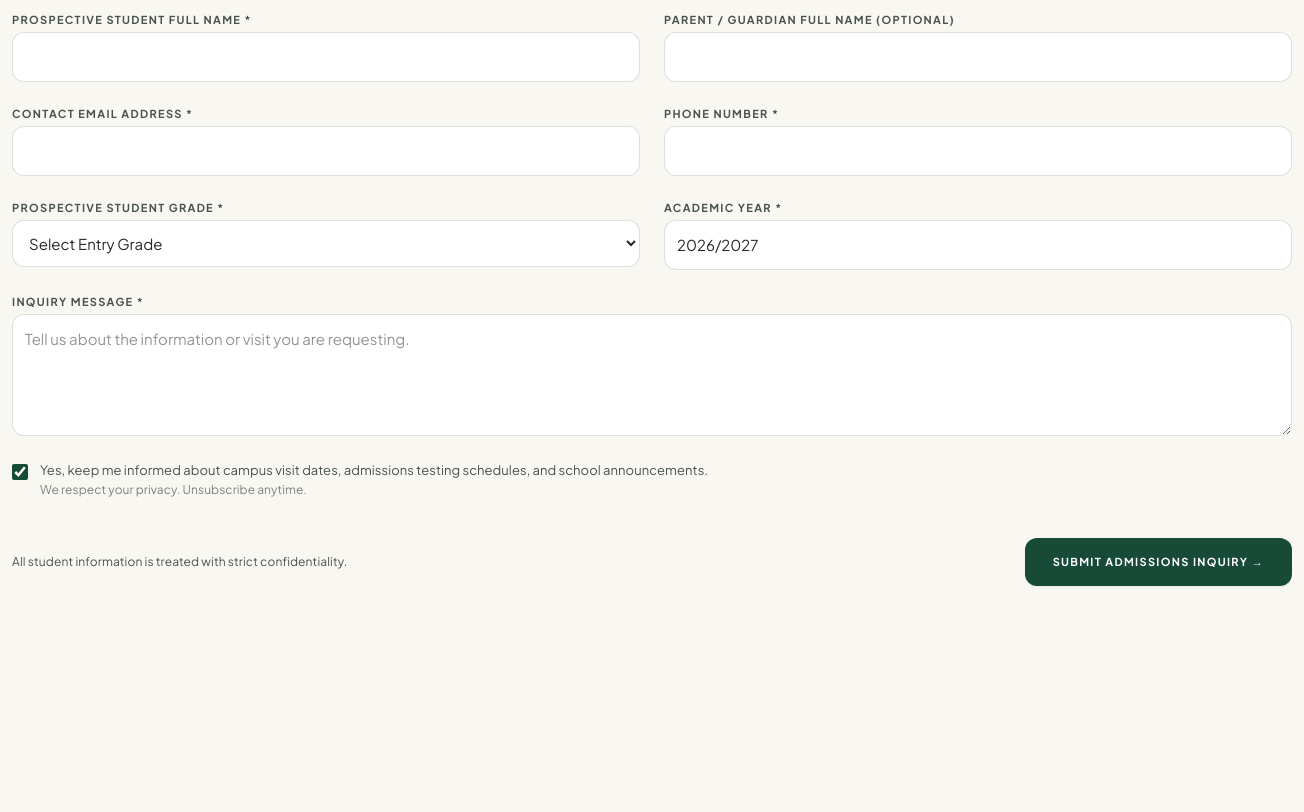
it: AdmissionInquiryForm › submits admissions then newsletter and reports both outcomes
Type "Amina Bekele" into the field labelled "Prospective Student Full Name *".
click(326, 57); type("Amina Bekele")  # box [12,32,640,82]
Type "Sara Bekele" into the field labelled "Parent / Guardian Full Name (optional)".
click(978, 57); type("Sara Bekele")  # box [664,32,1292,82]
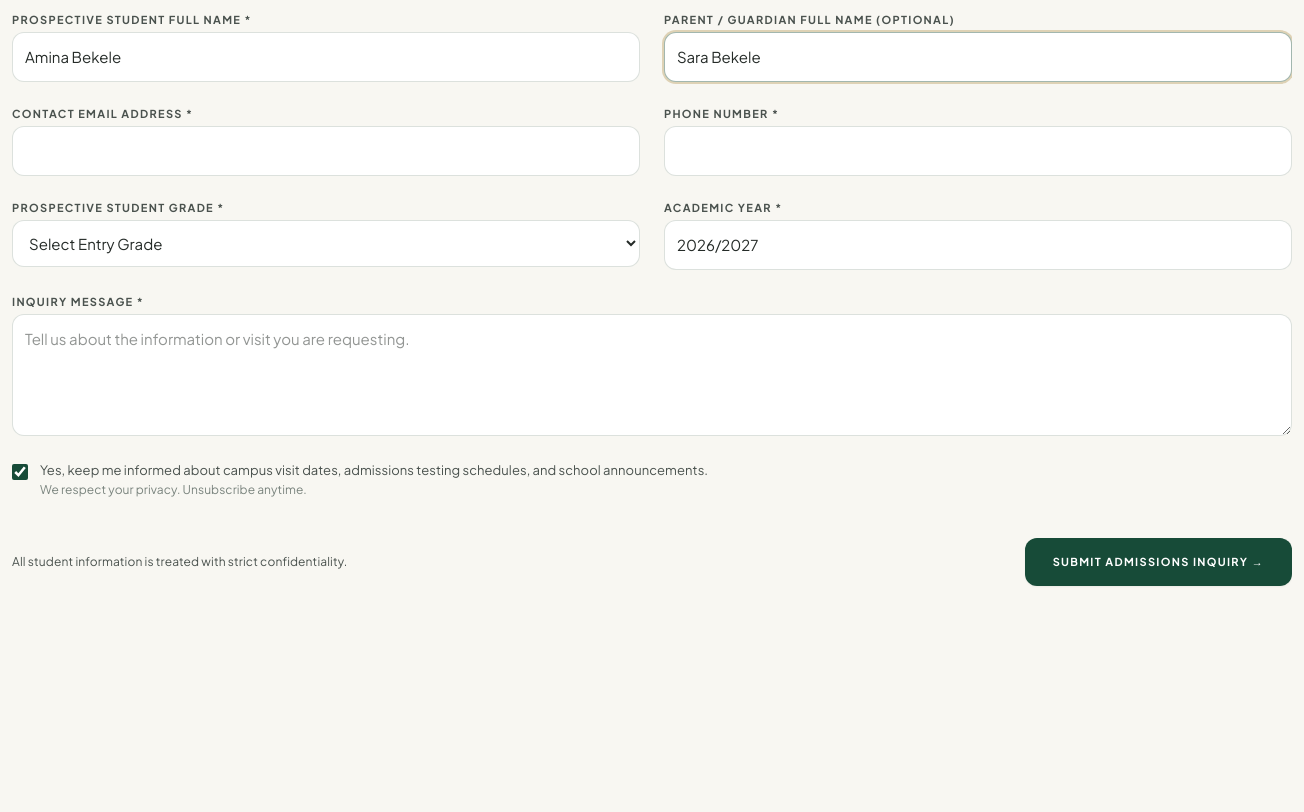
Type "amina@example.com" into the field labelled "Contact Email Address *".
click(326, 151); type("amina@example.com")  # box [12,126,640,176]
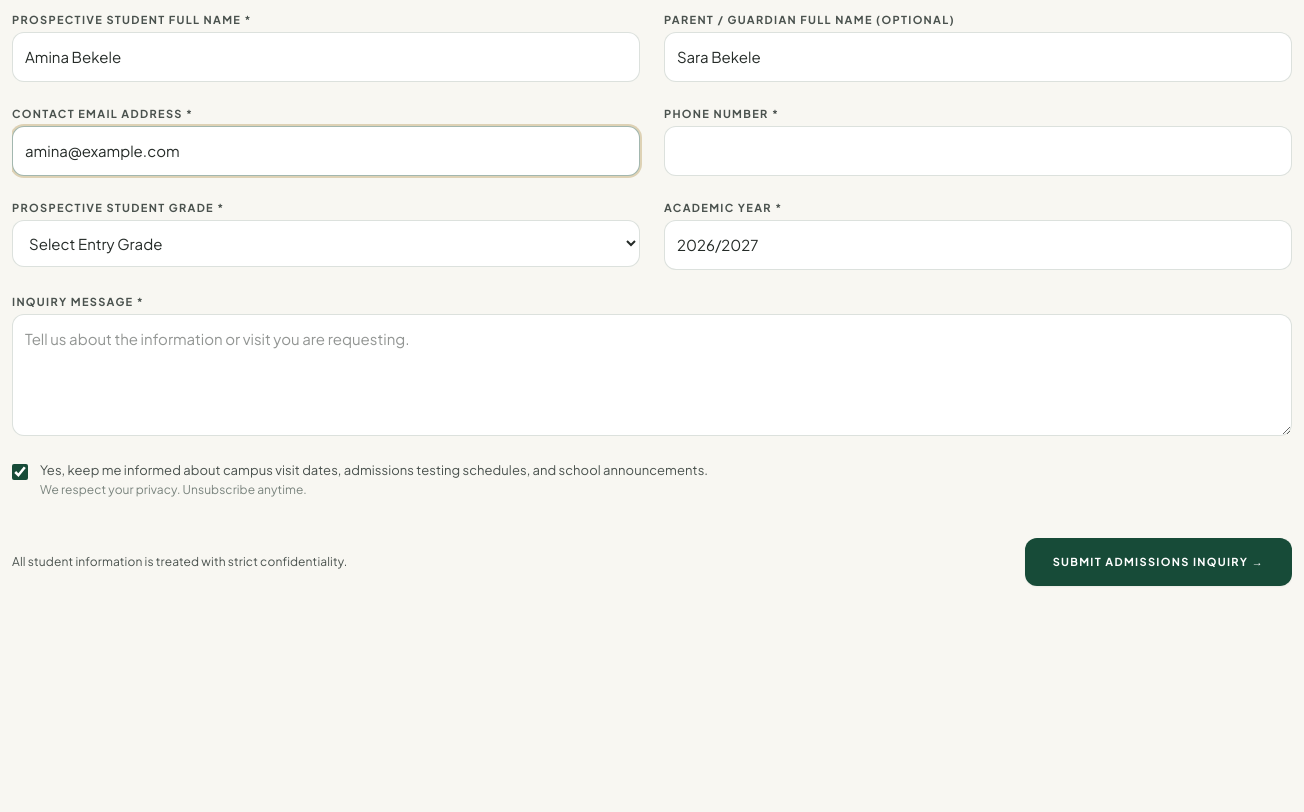
Type "+251911234567" into the field labelled "Phone Number *".
click(978, 151); type("+251911234567")  # box [664,126,1292,176]
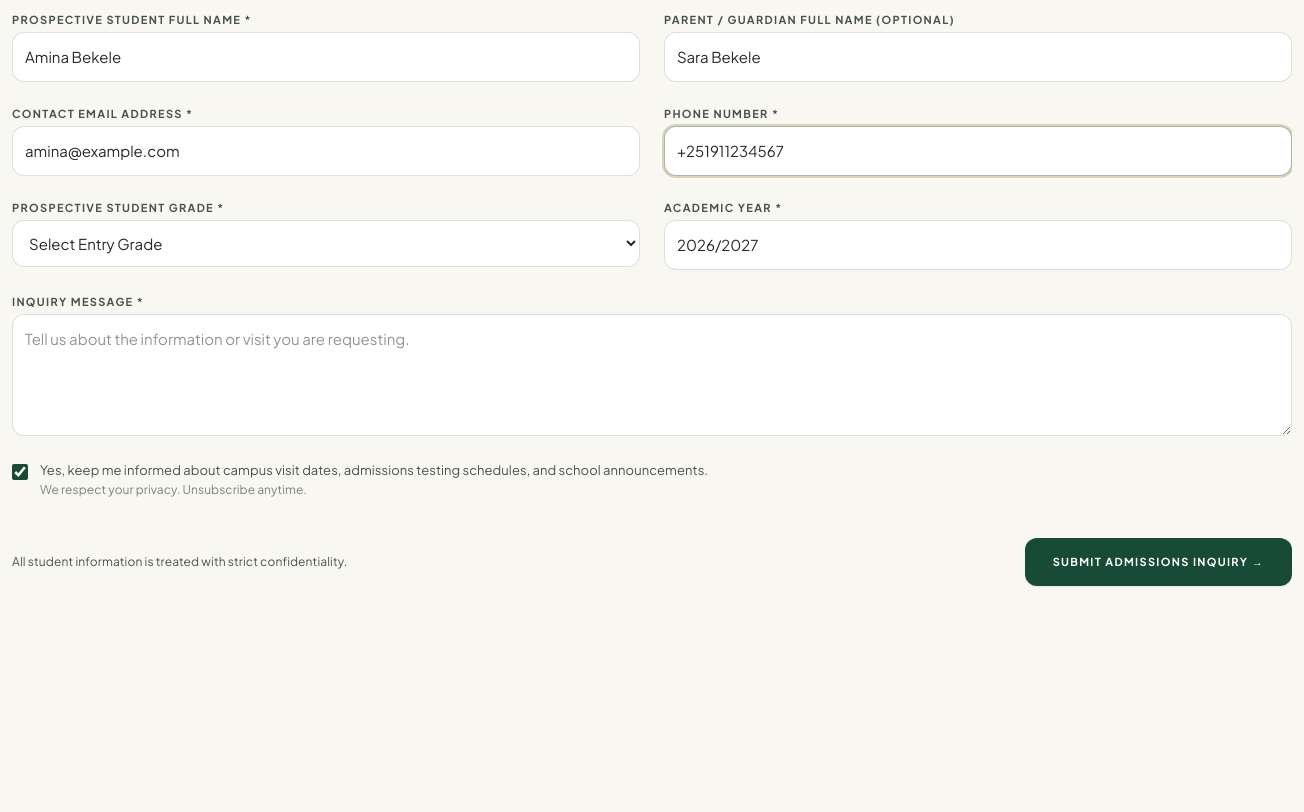
Select "Grade 9" in the dropdown labelled "Prospective Student Grade *" at coordinates (326, 244), box [12,220,640,267]
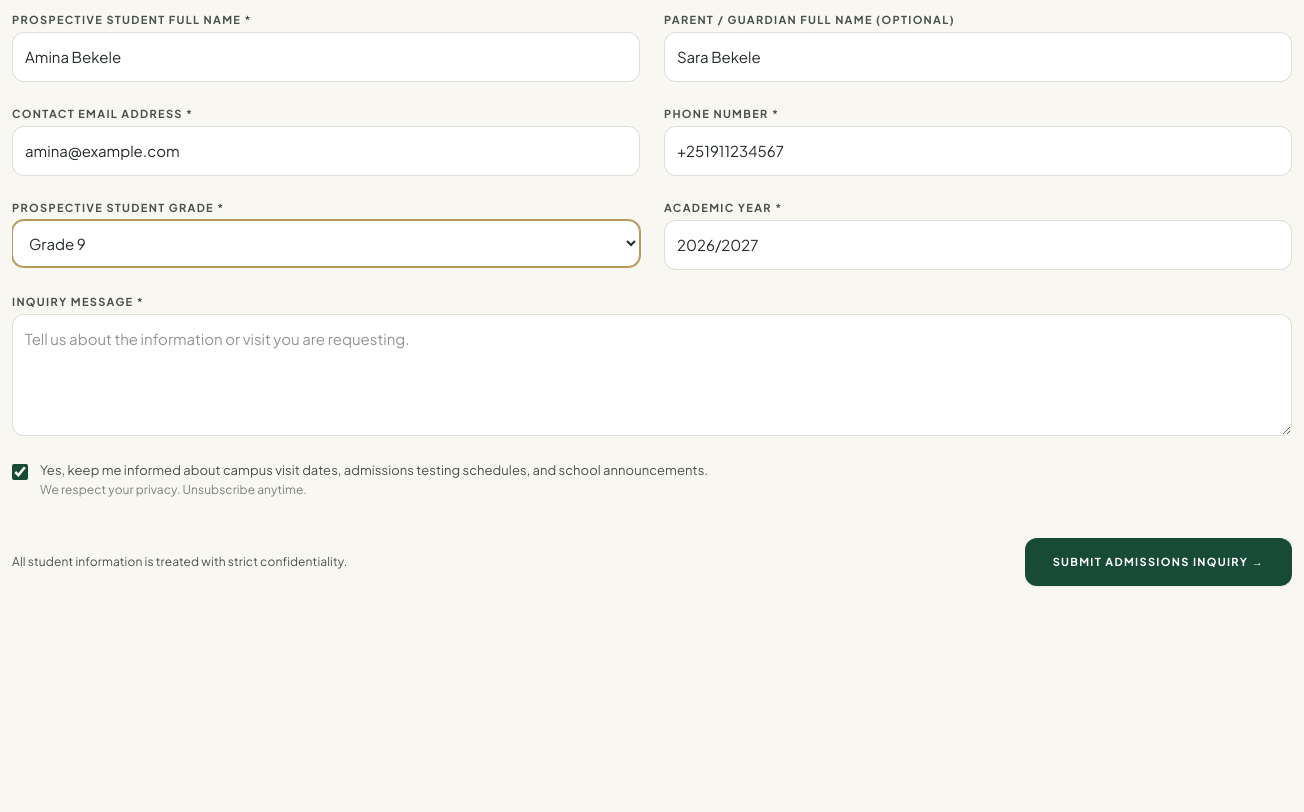
Type "Please send Grade 9 curriculum information." into the text box labelled "Inquiry Message *".
click(652, 375); type("Please send Grade 9 curriculum information.")  # box [12,314,1292,436]
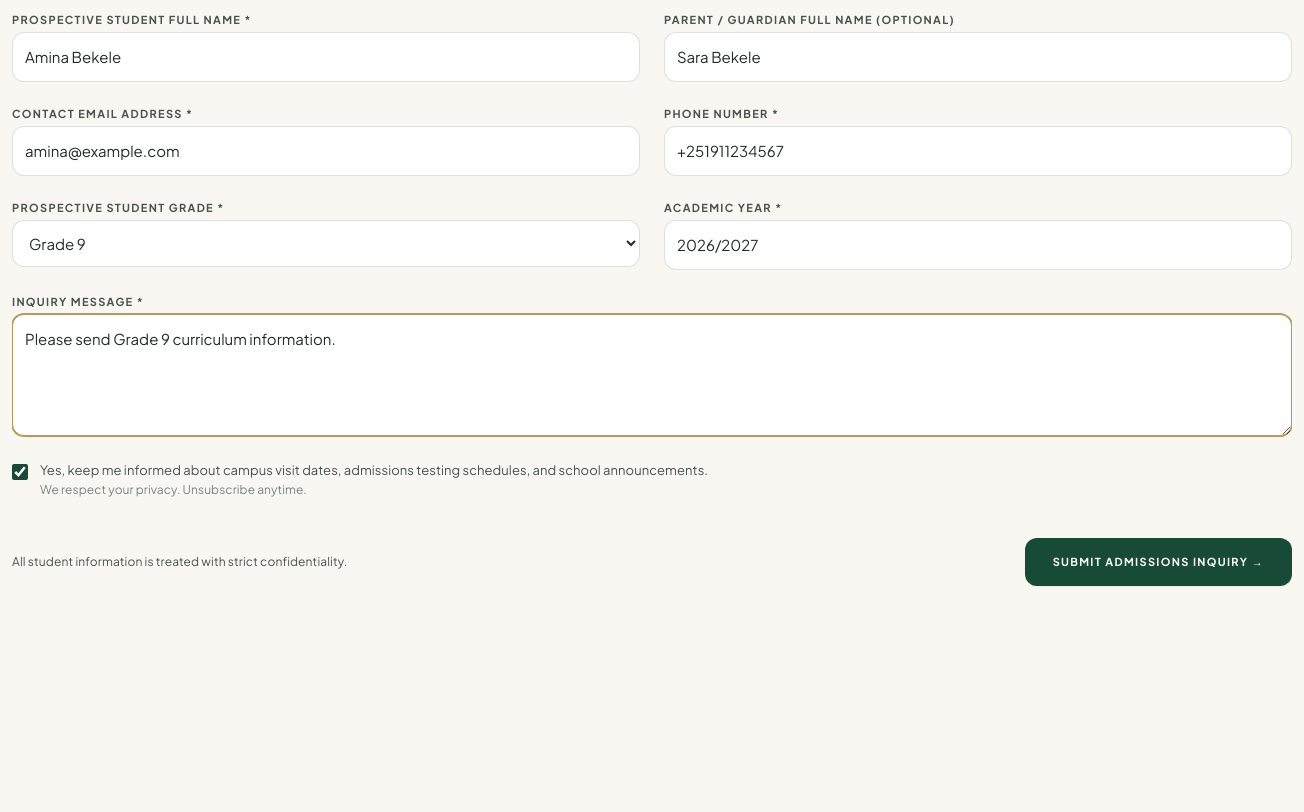
Click the button "Submit Admissions Inquiry →".
click(1158, 562)  # box [1025,538,1292,586]
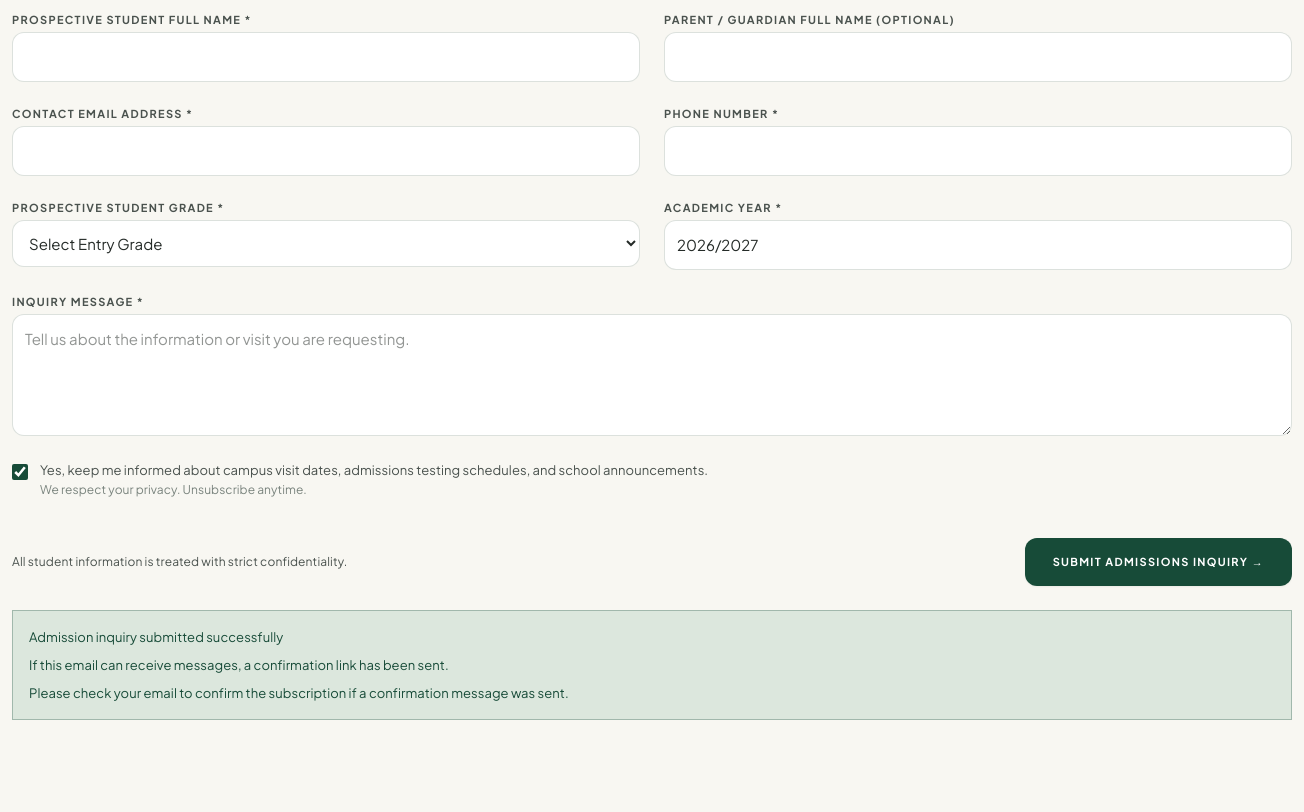
Now the text "Admission inquiry submitted successfully" is shown, box [29,629,283,645]
Now the text "If this email can receive messages, a confirmation link has been sent." is shown, box [29,657,449,673]
Now the text "check your email to confirm" is shown, box [29,685,569,701]
